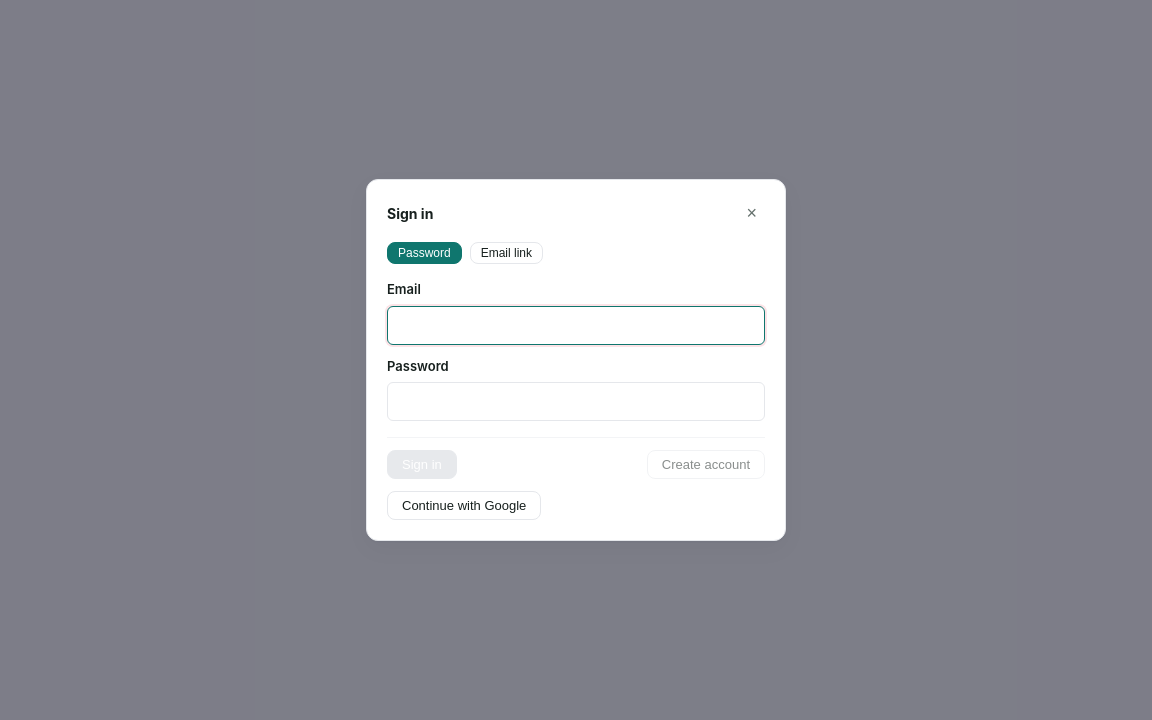
Test case: AuthModal › shows a sanitized Google configuration failure
Click the button with test id "site-auth-google" at (464, 506), box [387,491,541,520]
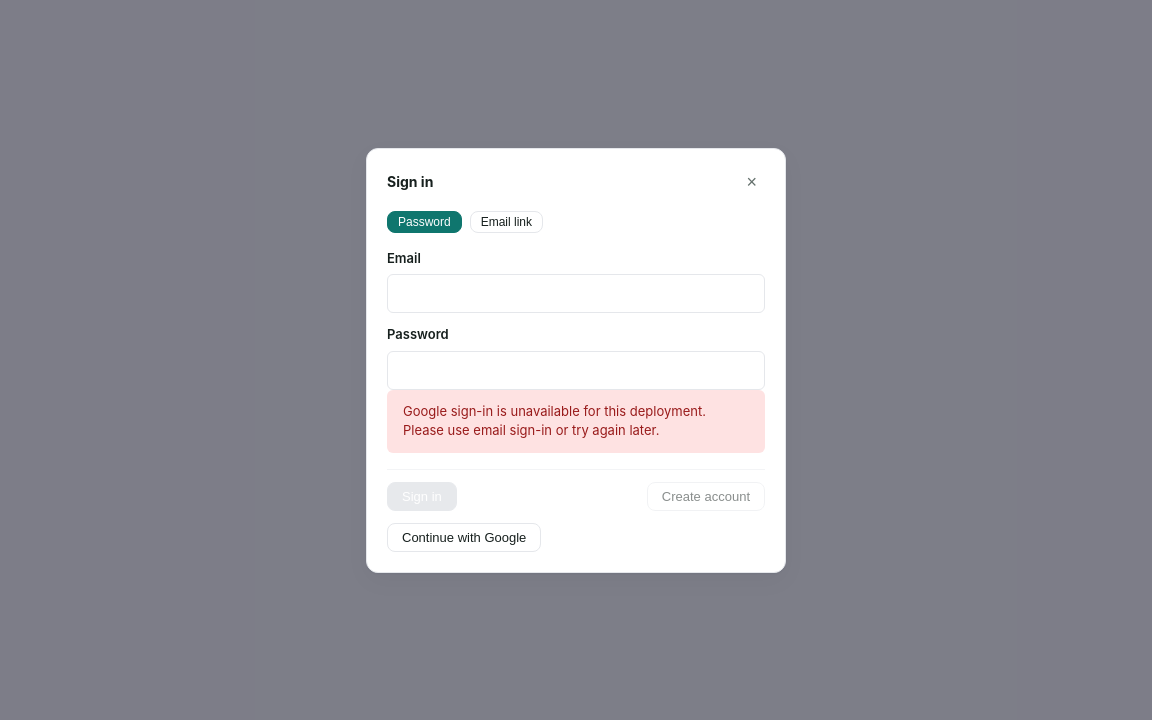
Expected: the text with test id "site-auth-error" does not show "provider_not_enabled", [387,390,765,452]
Expected: the text with test id "site-auth-error" shows "Google sign-in is unavailable", [403,402,706,438]
